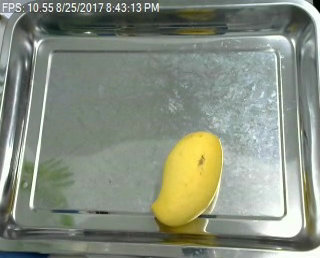Mango: (150, 132, 223, 228)
